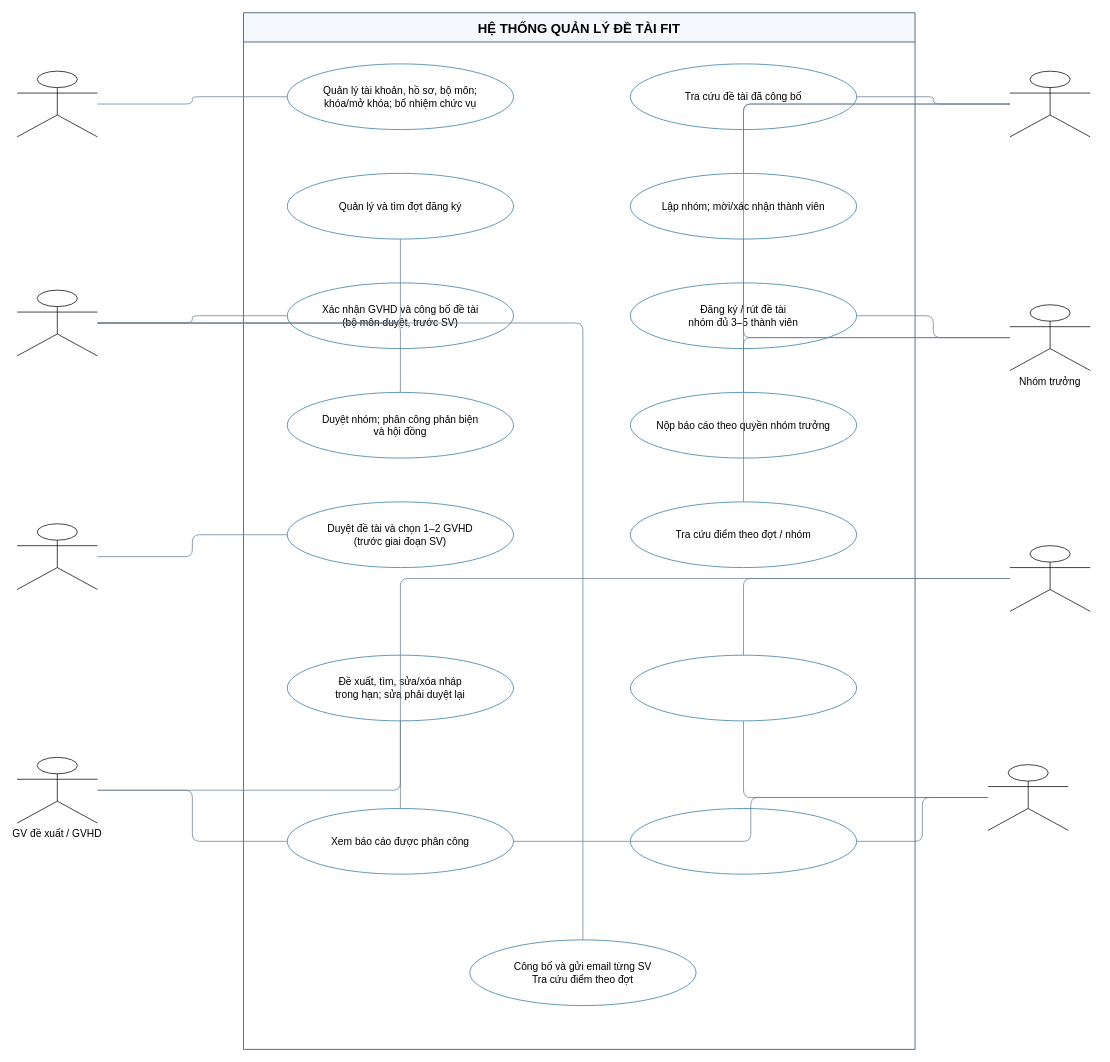
Image size: 1110x1062. Some labels were removed from this diagram. The shapes that lost their labels are listed below. From the top down, each one's box as (x1, y1, x2, y2) in pixels, then its label:
(16, 70, 97, 137): Quản trị viên
(1009, 70, 1090, 137): Sinh viên
(16, 289, 97, 356): Trưởng khoa
(16, 523, 97, 589): Trưởng bộ môn
(1009, 545, 1090, 611): GVPB
(630, 654, 857, 721): Chấm điểm theo phân công
(987, 764, 1068, 830): Thành viên / Chủ tịch hội đồng
(630, 808, 857, 874): Chủ tịch tổng hợp điểm và khóa chỉnh sửa
